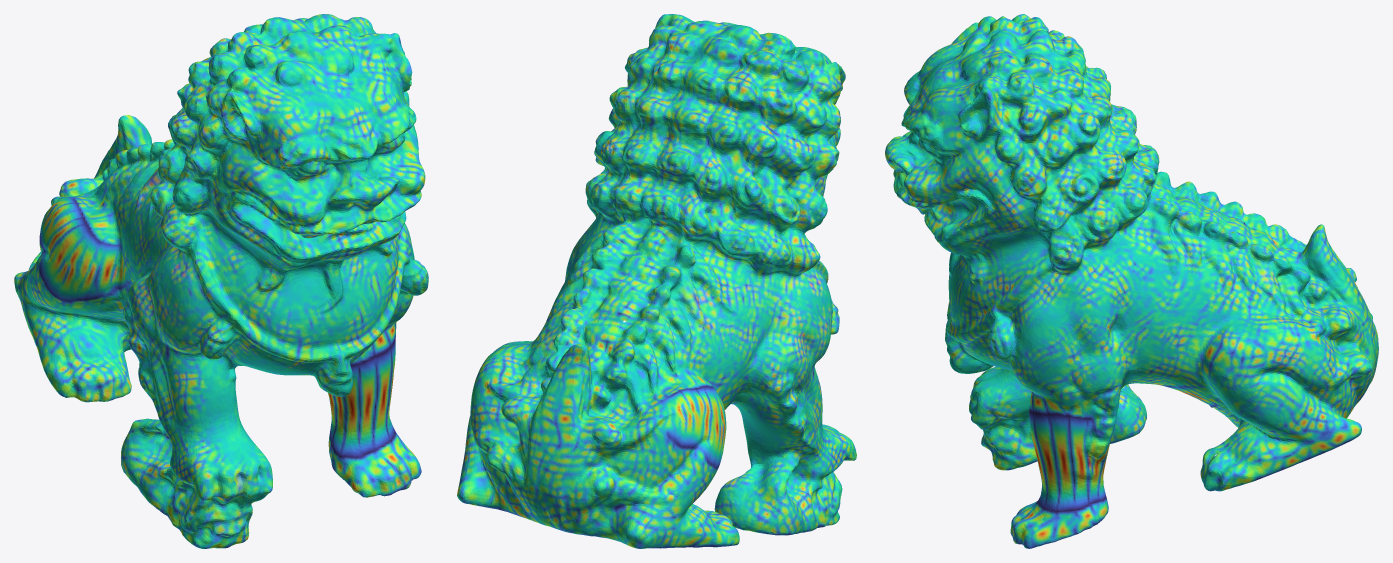
Rendered from gen0.glb.
The picture shows the model from 3 angles, left to right: view 1: azimuth 30°, elevation 25°; view 2: azimuth 150°, elevation 25°; view 3: azimuth 270°, elevation 25°; orthographic projection. The views are drawn at different scales.
Parts seen in each view (by area): view 1: Node; view 2: Node; view 3: Node.
Part boxes in pixels (x1=…): Node: x1=14, y1=14, x2=428, y2=548; Node: x1=457, y1=14, x2=856, y2=548; Node: x1=885, y1=14, x2=1378, y2=548.
Bounding box in the file's own units: 61.63 × 113 × 109.
Materials: 1 (1 with a texture image).
